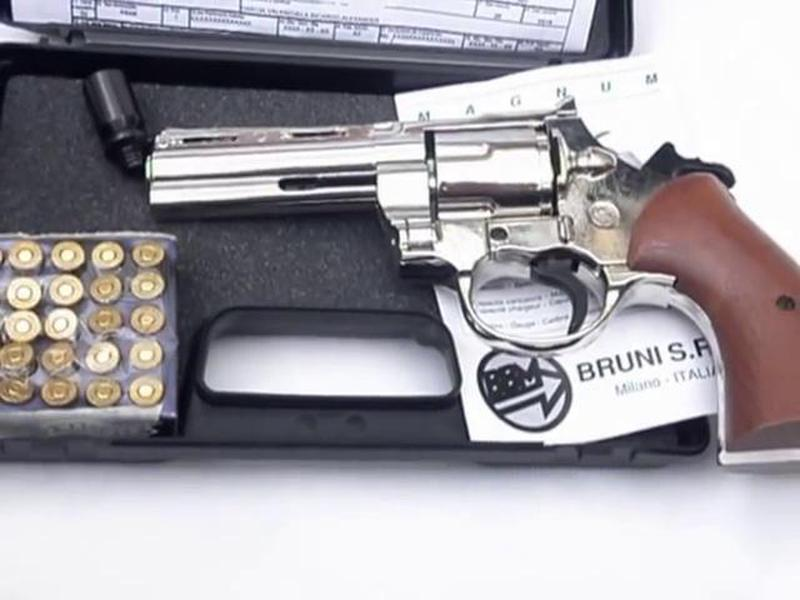Revolver: (162, 52, 800, 399)
